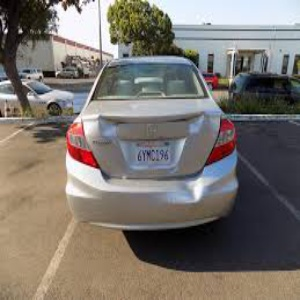bumper: (153, 172, 239, 213)
